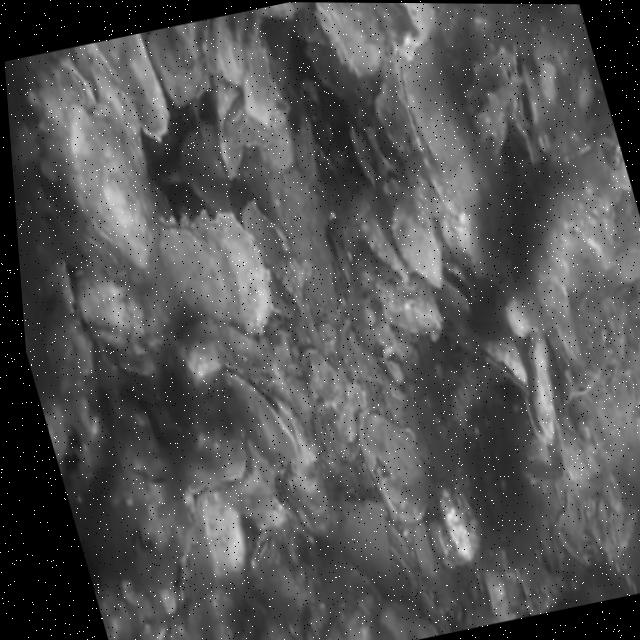Oyster-Closed: (64, 106, 157, 270), (397, 41, 485, 205), (193, 210, 274, 336), (161, 216, 237, 324), (222, 364, 304, 461), (358, 412, 427, 520), (179, 420, 252, 491), (524, 334, 556, 447), (478, 335, 531, 395), (62, 53, 95, 109), (251, 528, 273, 569)
Oyster-Indeterminate: (341, 226, 441, 332), (308, 554, 393, 640), (314, 2, 383, 75), (196, 492, 247, 579), (358, 200, 410, 284), (393, 208, 444, 285)
Oyster-Open: (465, 45, 526, 147), (510, 39, 549, 161), (436, 262, 478, 322)
